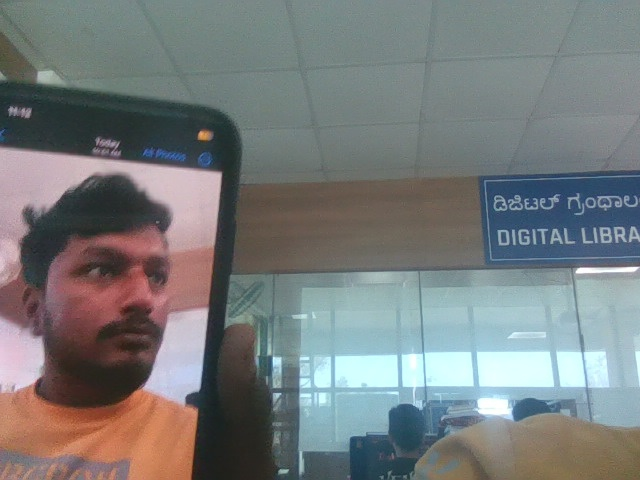fake: (24, 157, 195, 400)
